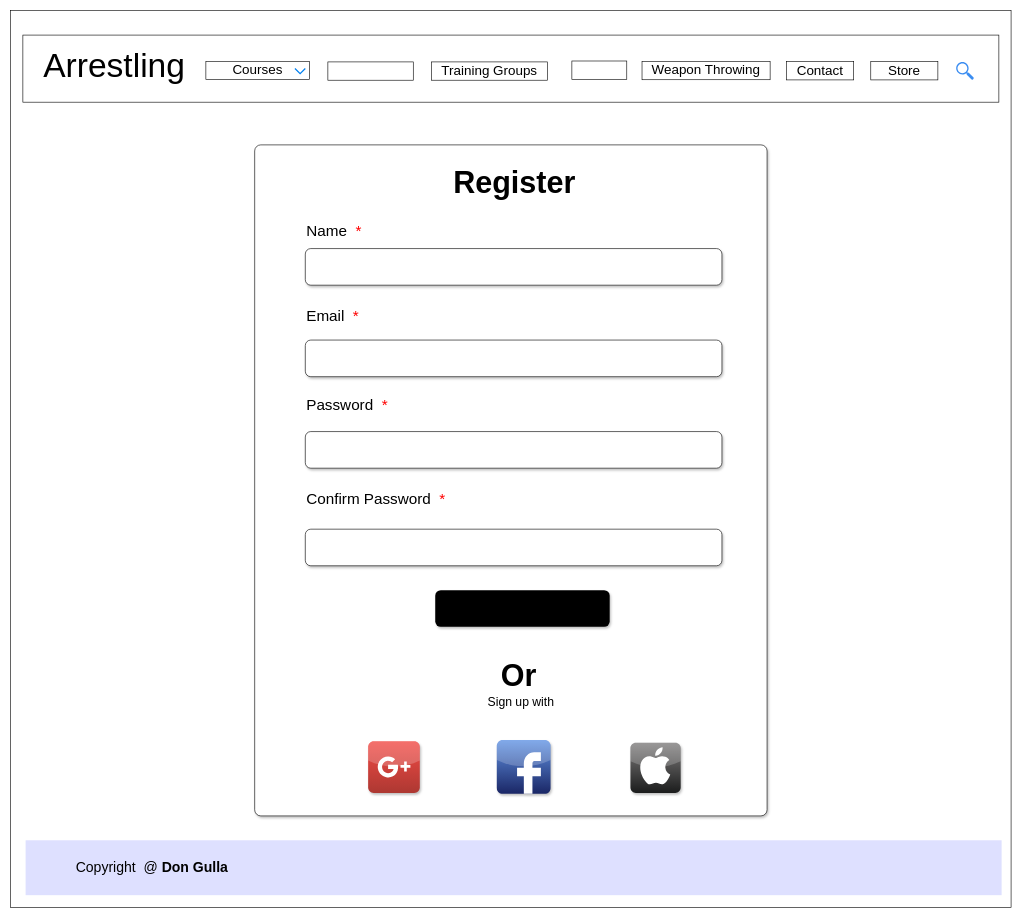
This 1022x918 diagram has some shape labels left out. Here are the shapes that lost their labels. From the top down, the centre of each, then its label:
At point (370, 70): "Schedule".
At point (599, 69): "About".
At point (522, 609): "SIGN UP".
